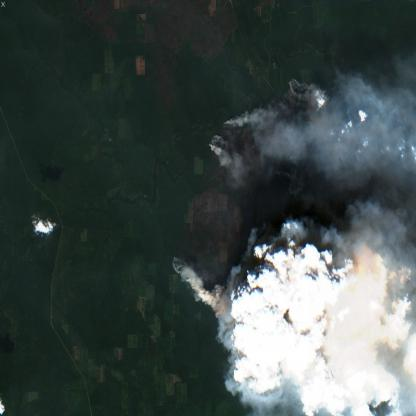fire: (168, 75, 329, 319)
